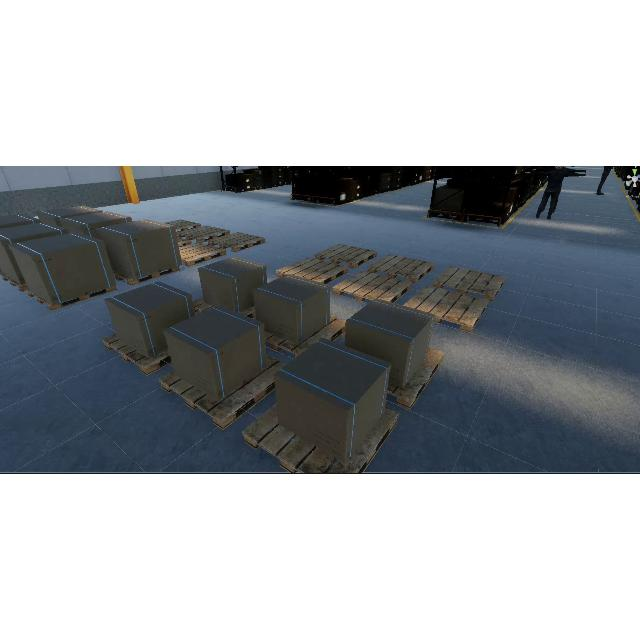wooden_pallet: (242, 401, 399, 474), (158, 354, 288, 431), (404, 284, 489, 332), (386, 345, 444, 410), (102, 331, 174, 376), (332, 269, 411, 304), (432, 265, 506, 301), (27, 285, 119, 310), (367, 252, 435, 284), (276, 256, 348, 285), (315, 243, 377, 269), (114, 265, 180, 286), (179, 242, 227, 267), (208, 231, 265, 252), (176, 226, 229, 242), (164, 219, 201, 231), (176, 236, 192, 247)
